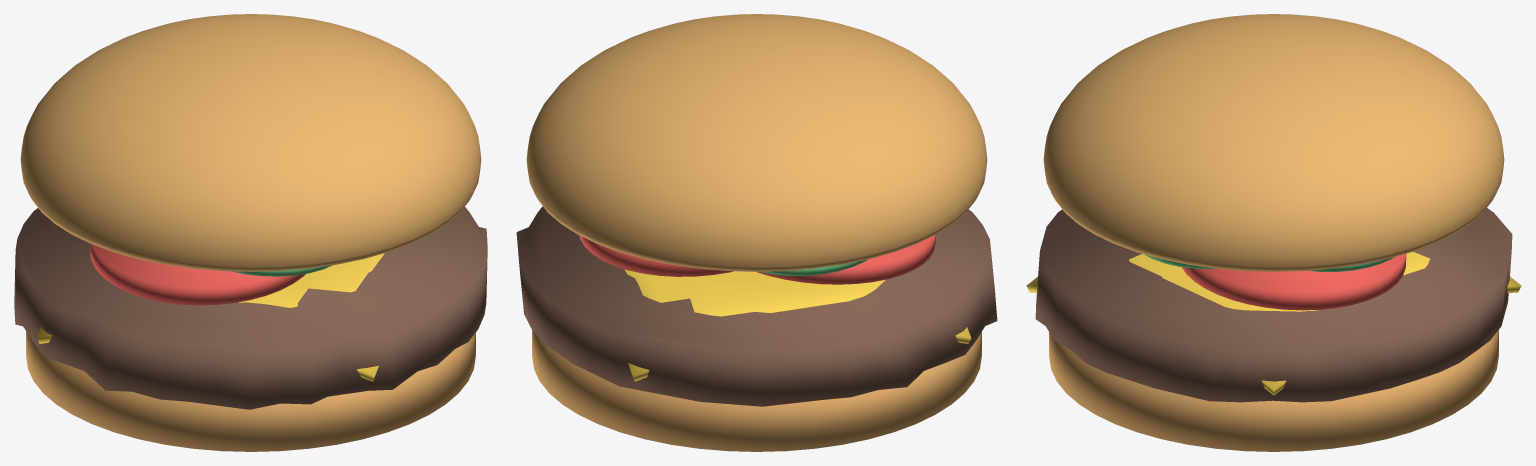
Rendered from krunch_burger_4k.glb.
3 renders of one model, left to right at view 1: azimuth 30°, elevation 25°; view 2: azimuth 150°, elevation 25°; view 3: azimuth 270°, elevation 25°, orthographic.
Visible parts, largest first — view 1: TopBun, SmashPatty, BottomBun, Tomato_1, MeltedCheese, Cucumber_3; view 2: TopBun, SmashPatty, BottomBun, MeltedCheese, Tomato_1, Tomato_2, Cucumber_1; view 3: TopBun, SmashPatty, BottomBun, Tomato_2, MeltedCheese.
Part boxes in pixels (x1,y1,x2,y2): TopBun: (20, 14, 481, 271); SmashPatty: (14, 207, 487, 409); BottomBun: (26, 331, 475, 451); Tomato_1: (90, 243, 305, 305); MeltedCheese: (36, 253, 384, 381); Cucumber_3: (231, 265, 332, 276); TopBun: (526, 14, 987, 271); SmashPatty: (516, 206, 997, 406); BottomBun: (532, 330, 981, 451); MeltedCheese: (624, 269, 971, 381); Tomato_1: (757, 235, 935, 284); Tomato_2: (579, 235, 733, 276); Cucumber_1: (760, 259, 867, 276); TopBun: (1043, 14, 1504, 271); SmashPatty: (1035, 208, 1512, 402); BottomBun: (1049, 330, 1498, 451); Tomato_2: (1181, 253, 1406, 310); MeltedCheese: (1026, 251, 1521, 395).
Size of the model in its own units: 2.69 by 1.83 by 2.69.
